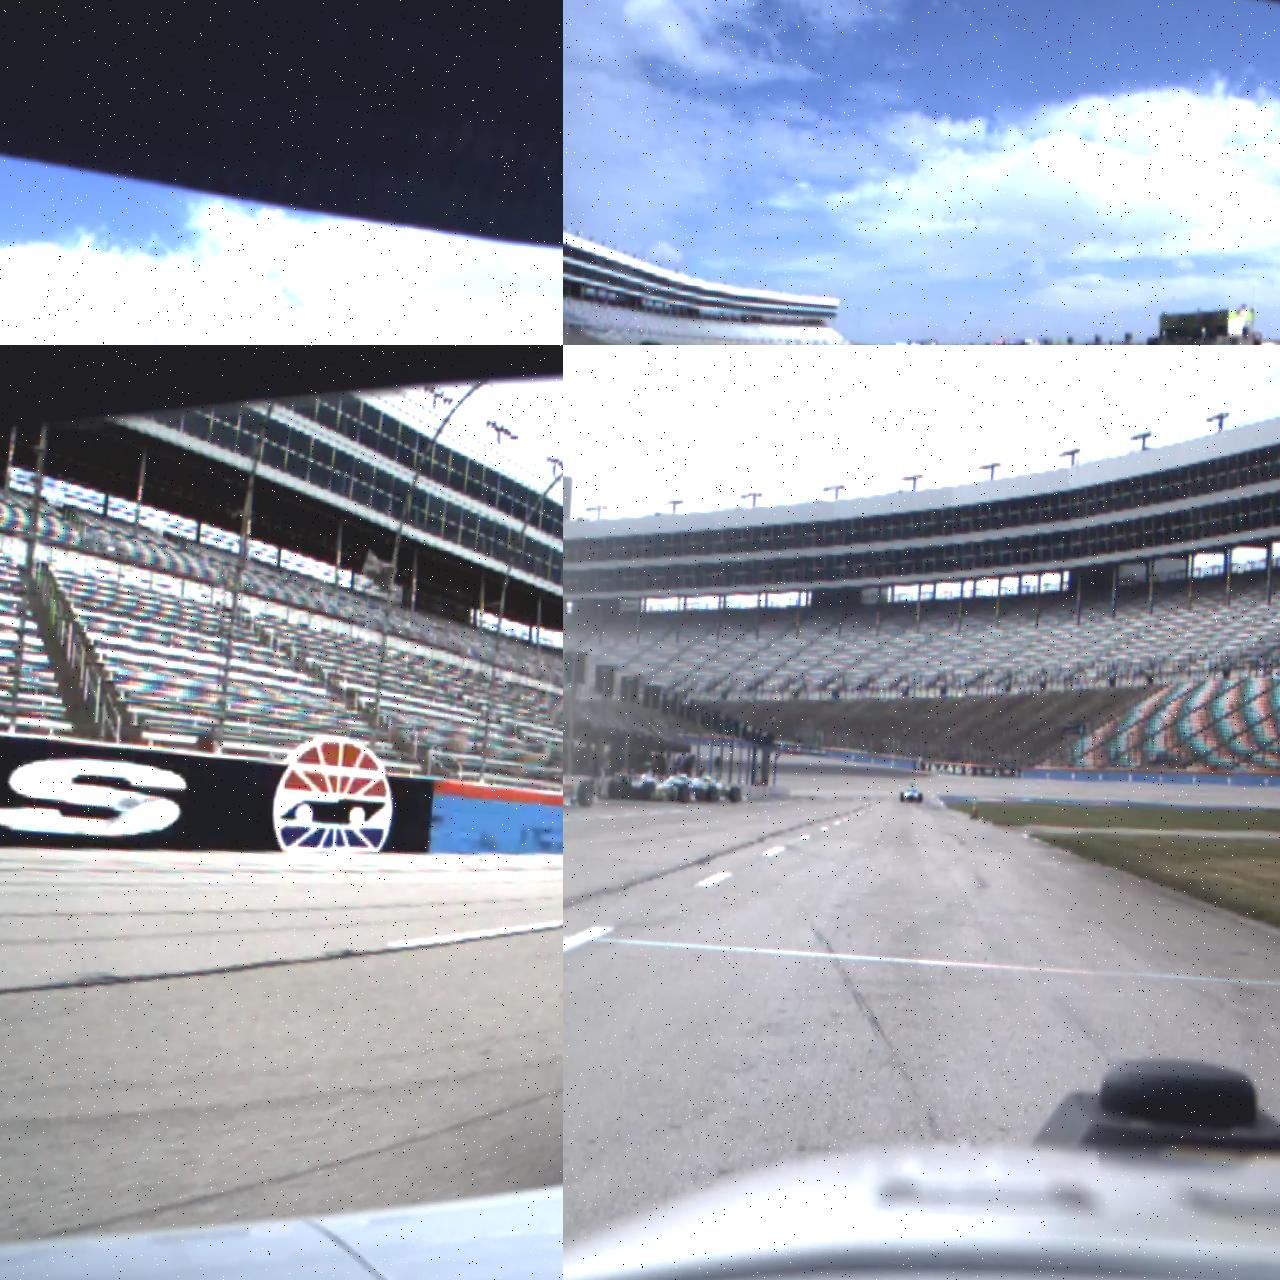AV: (900, 782, 924, 803)
Wheel: (577, 779, 595, 808), (640, 782, 655, 801), (678, 787, 690, 803), (729, 787, 741, 804), (707, 785, 719, 803), (899, 792, 905, 802), (918, 794, 922, 803)
